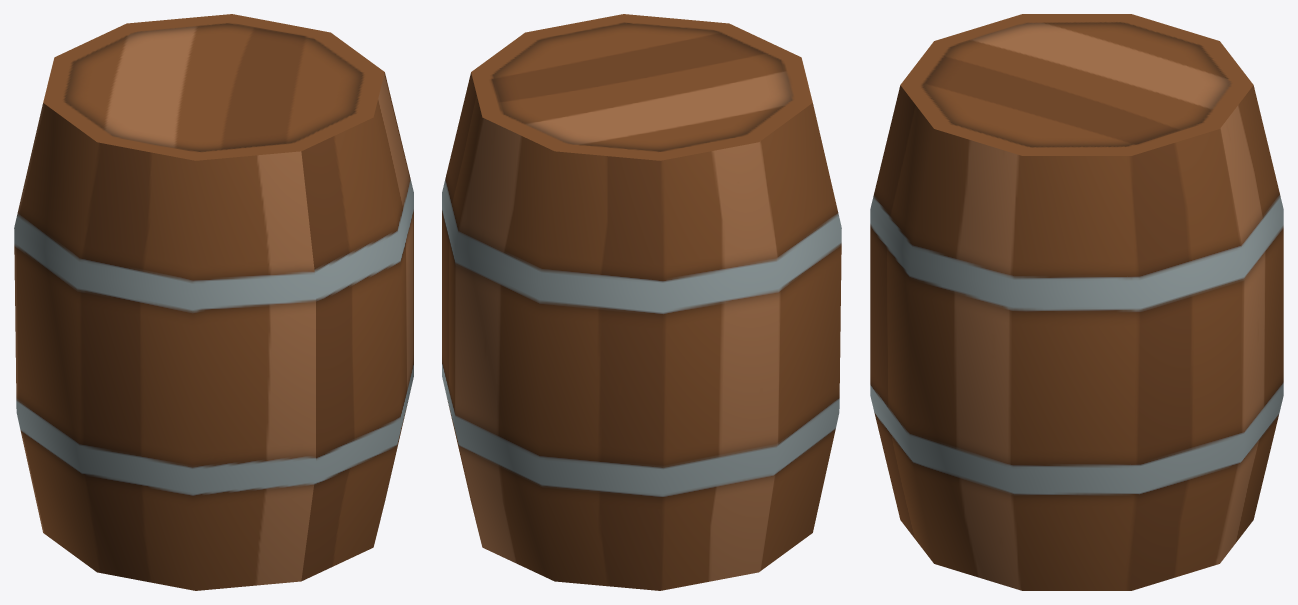
The model's file is Barril_Joined.fbx.
3 views of the same model, side by side, from view 1: azimuth 30°, elevation 25°; view 2: azimuth 150°, elevation 25°; view 3: azimuth 270°, elevation 25° (orthographic).
Parts seen in each view (by area): view 1: Barril; view 2: Barril; view 3: Barril.
Boxes of the visible parts, left/top/right/bottom form: Barril: left=14, top=14, right=413, bottom=590; Barril: left=442, top=14, right=841, bottom=590; Barril: left=870, top=14, right=1283, bottom=590.
Bounding box in the file's own units: 63.37 × 77.39 × 66.63.
